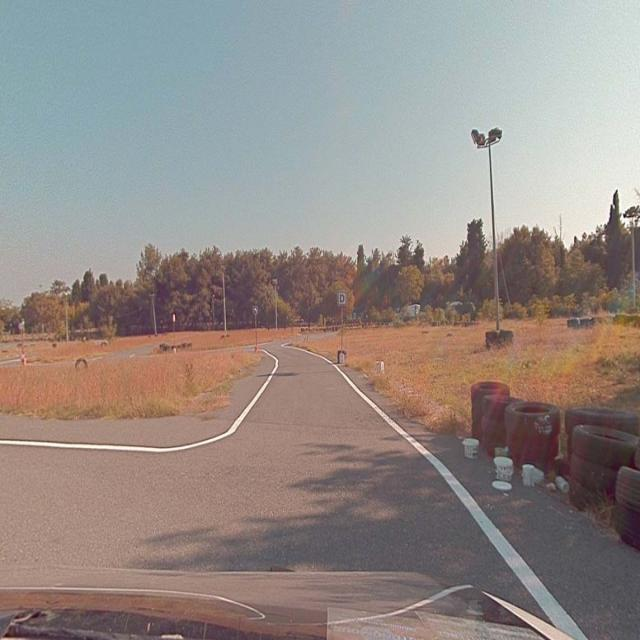durak: (338, 290, 347, 306)
